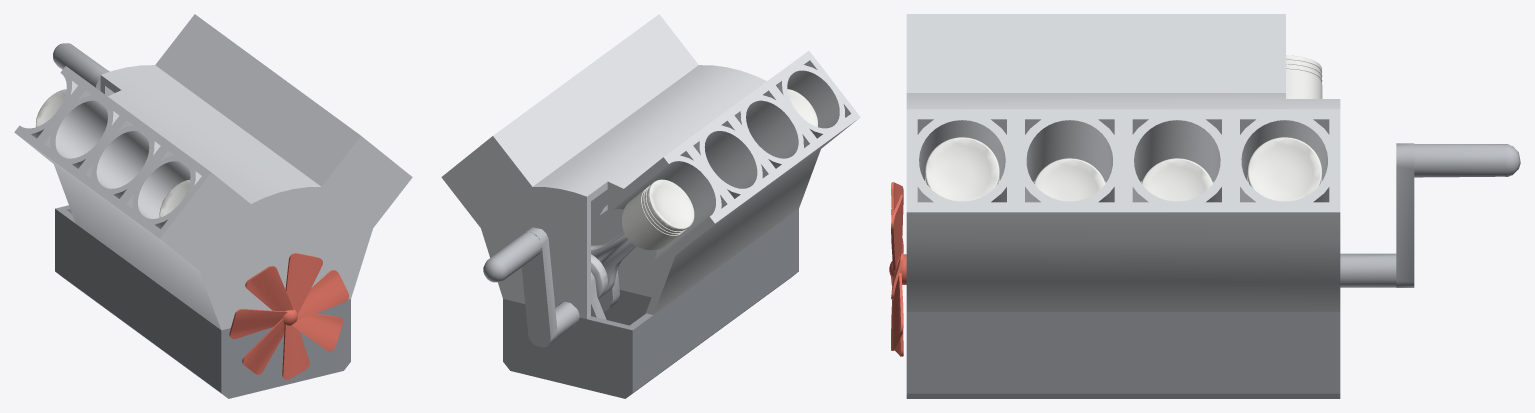
Rendered from v8-engine.glb.
The picture shows the model from 3 angles, left to right: view 1: azimuth 30°, elevation 25°; view 2: azimuth 150°, elevation 25°; view 3: azimuth 270°, elevation 25°; orthographic projection. The views are drawn at different scales.
Visible parts, largest first — view 1: Block 1, Bottom_end 1, Fan 1, Crank 1, Piston_head 2, Piston_head 4; view 2: Block 1, Bottom_end 1, Crank 1, Piston_head 4, Conrod 7, Piston_head 2, Conrod 8; view 3: Block 1, Bottom_end 1, Crank 1, Piston_head 7, Piston_head 3, Piston_head 1, Piston_head 5, Fan 1, Piston_head 4.
Part boxes in pixels (x1=…): Block 1: x1=14, y1=14, x2=412, y2=330; Bottom_end 1: x1=55, y1=205, x2=350, y2=398; Fan 1: x1=229, y1=253, x2=348, y2=379; Crank 1: x1=53, y1=43, x2=109, y2=90; Piston_head 2: x1=159, y1=180, x2=190, y2=217; Piston_head 4: x1=35, y1=89, x2=66, y2=126; Block 1: x1=441, y1=14, x2=860, y2=318; Bottom_end 1: x1=503, y1=209, x2=798, y2=398; Crank 1: x1=483, y1=227, x2=619, y2=347; Piston_head 4: x1=622, y1=179, x2=694, y2=250; Conrod 7: x1=591, y1=231, x2=636, y2=296; Piston_head 2: x1=787, y1=89, x2=818, y2=126; Conrod 8: x1=591, y1=254, x2=607, y2=299; Block 1: x1=906, y1=14, x2=1340, y2=311; Bottom_end 1: x1=906, y1=312, x2=1340, y2=398; Crank 1: x1=1340, y1=143, x2=1520, y2=287; Piston_head 7: x1=1247, y1=137, x2=1322, y2=201; Piston_head 3: x1=925, y1=137, x2=999, y2=201; Piston_head 1: x1=1141, y1=158, x2=1212, y2=201; Piston_head 5: x1=1034, y1=158, x2=1105, y2=201; Fan 1: x1=889, y1=182, x2=906, y2=356; Piston_head 4: x1=1286, y1=55, x2=1322, y2=98.
Bounding box in the file's own units: 1.93 × 1.68 × 3.2.
